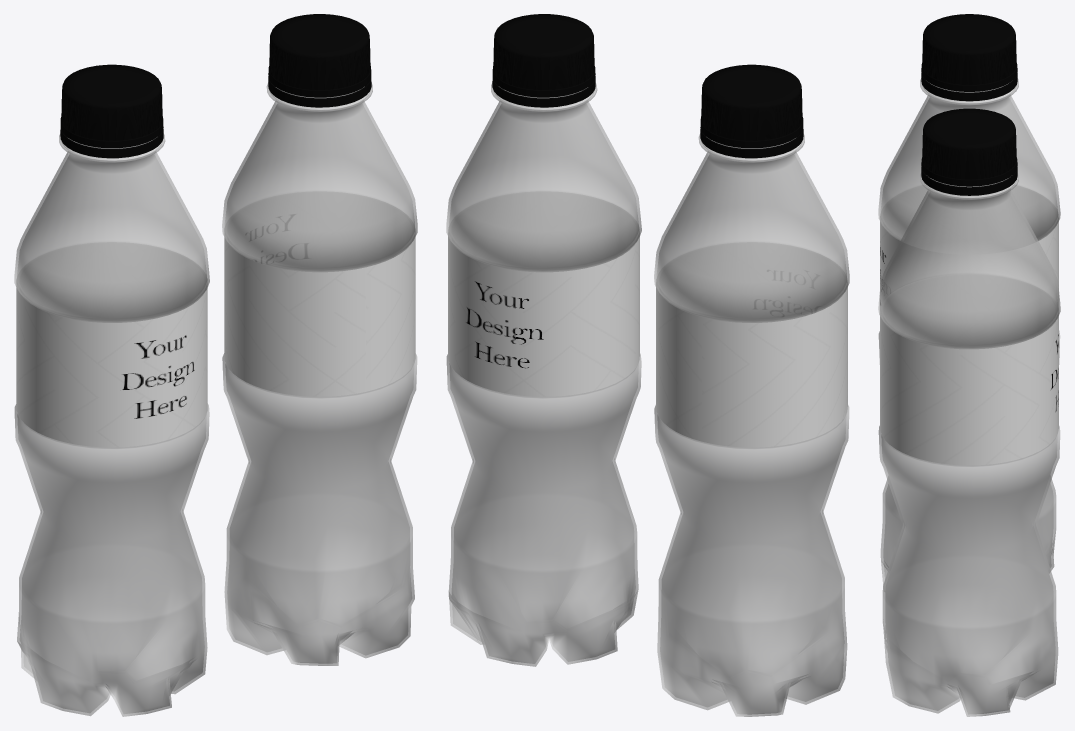
File: Soft Drinks A-1.glb
3 renders of one model, left to right at view 1: azimuth 30°, elevation 25°; view 2: azimuth 150°, elevation 25°; view 3: azimuth 270°, elevation 25°, orthographic. The views are drawn at different scales.
Visible parts, largest first — view 1: Bottle_Bottle.001_Cylinder.001, Bottle_Bottle.001_Cylinder.008, Label_Bottle.001_Cylinder.007, Label_Bottle.001_Cylinder.001, Plastic_Neck_Bottle.001_Cylinder.006, Plastic_Neck_Bottle.001_Cylinder.001; view 2: Bottle_Bottle.001_Cylinder.008, Bottle_Bottle.001_Cylinder.001, Label_Bottle.001_Cylinder.007, Label_Bottle.001_Cylinder.001, Plastic_Neck_Bottle.001_Cylinder.006, Plastic_Neck_Bottle.001_Cylinder.001; view 3: Bottle_Bottle.001_Cylinder.001, Label_Bottle.001_Cylinder.001, Bottle_Bottle.001_Cylinder.008, Plastic_Neck_Bottle.001_Cylinder.001, Plastic_Neck_Bottle.001_Cylinder.006, Label_Bottle.001_Cylinder.007.
Part boxes in pixels (left/top/right/bottom): Bottle_Bottle.001_Cylinder.001: left=222, top=83, right=417, bottom=665; Bottle_Bottle.001_Cylinder.008: left=14, top=134, right=209, bottom=716; Label_Bottle.001_Cylinder.007: left=16, top=279, right=207, bottom=447; Label_Bottle.001_Cylinder.001: left=224, top=228, right=415, bottom=396; Plastic_Neck_Bottle.001_Cylinder.006: left=60, top=64, right=163, bottom=158; Plastic_Neck_Bottle.001_Cylinder.001: left=268, top=14, right=371, bottom=107; Bottle_Bottle.001_Cylinder.008: left=654, top=134, right=849, bottom=716; Bottle_Bottle.001_Cylinder.001: left=446, top=83, right=641, bottom=666; Label_Bottle.001_Cylinder.007: left=656, top=279, right=847, bottom=447; Label_Bottle.001_Cylinder.001: left=448, top=229, right=639, bottom=396; Plastic_Neck_Bottle.001_Cylinder.006: left=700, top=64, right=803, bottom=158; Plastic_Neck_Bottle.001_Cylinder.001: left=492, top=14, right=595, bottom=107; Bottle_Bottle.001_Cylinder.001: left=878, top=173, right=1060, bottom=716; Label_Bottle.001_Cylinder.001: left=880, top=309, right=1058, bottom=465; Bottle_Bottle.001_Cylinder.008: left=878, top=78, right=1060, bottom=591; Plastic_Neck_Bottle.001_Cylinder.001: left=921, top=108, right=1017, bottom=195; Plastic_Neck_Bottle.001_Cylinder.006: left=921, top=14, right=1017, bottom=101; Label_Bottle.001_Cylinder.007: left=880, top=214, right=1058, bottom=308.
Size of the model in its own units: 1.5 by 2.29 by 0.6717.
3 materials, 1 textured.
